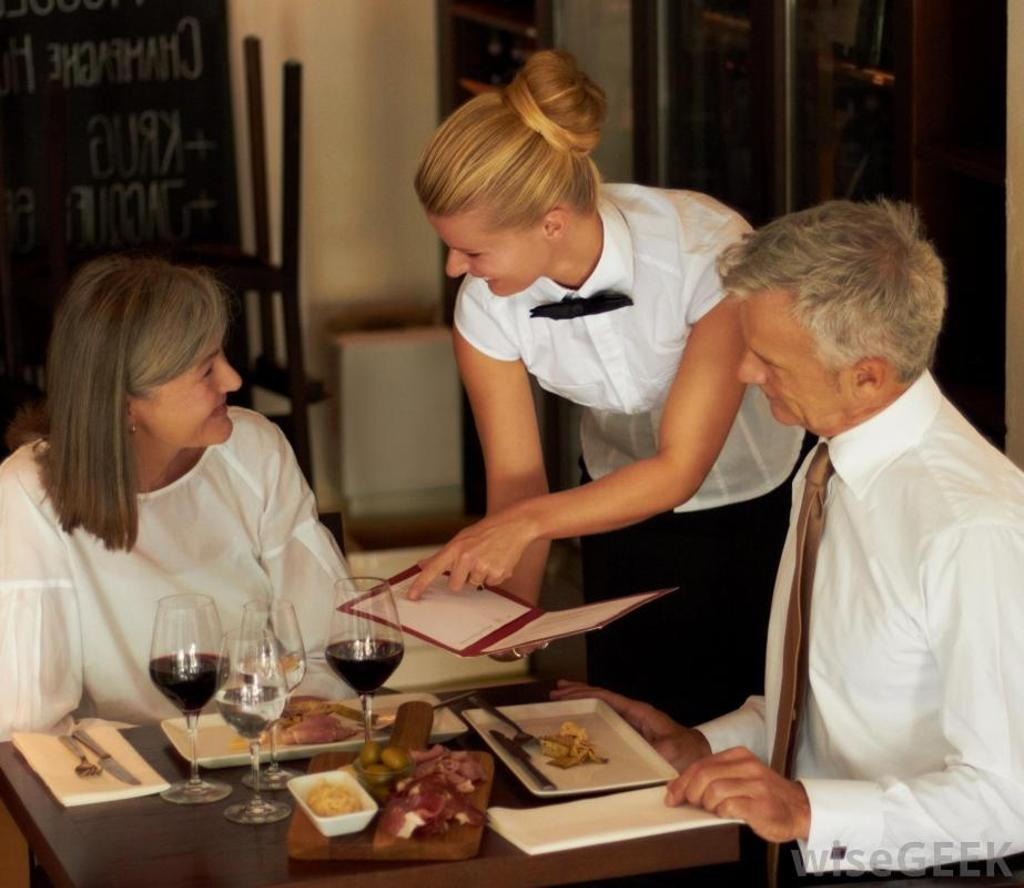face: (134, 290, 240, 446), (736, 296, 858, 420), (424, 202, 542, 300)
